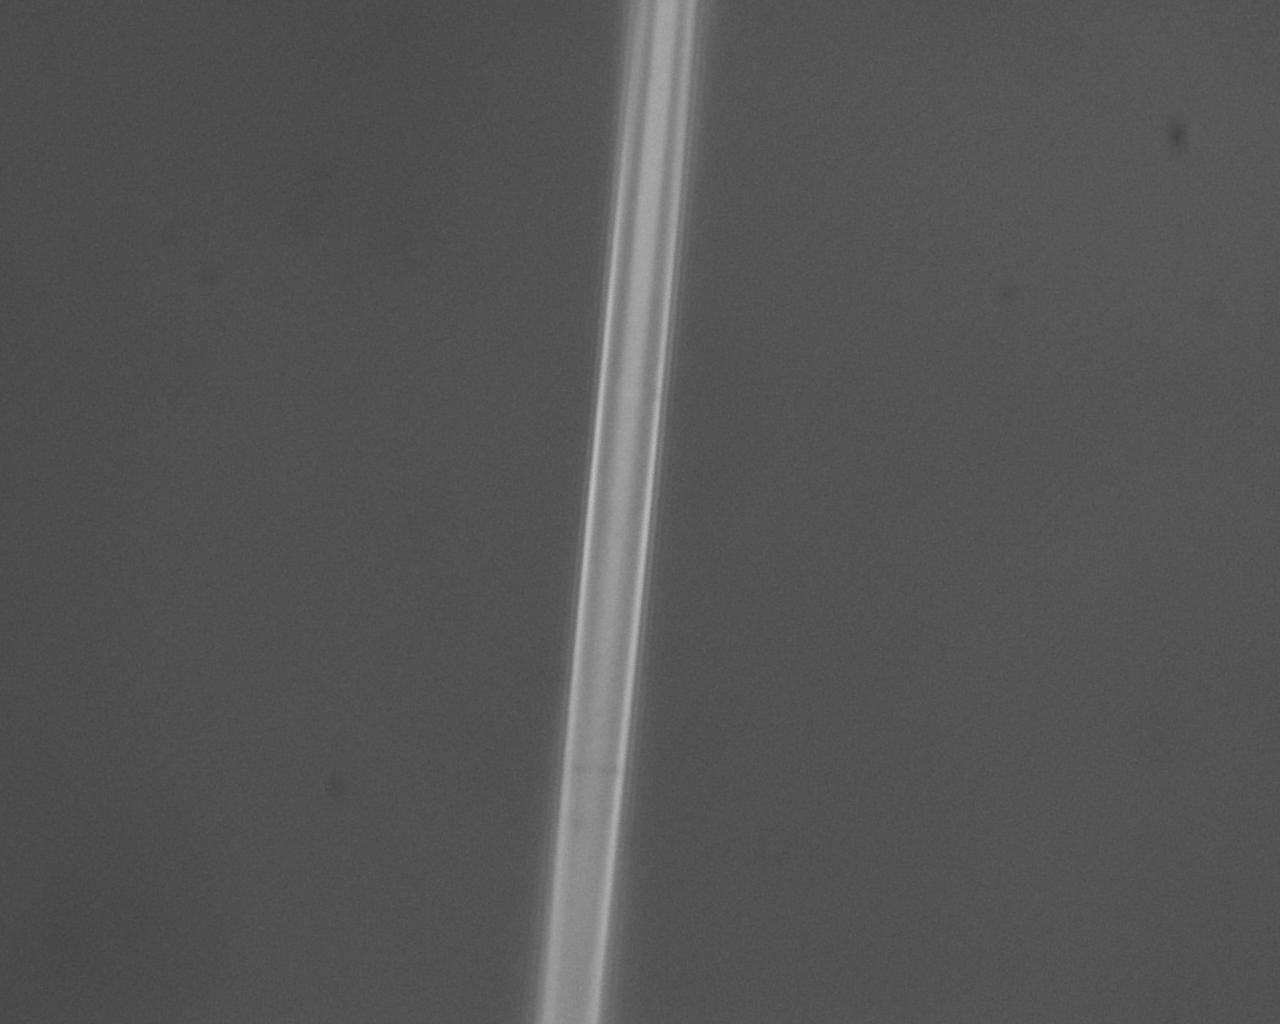fiber: (588, 430, 1280, 743), (1108, 0, 1160, 430)
